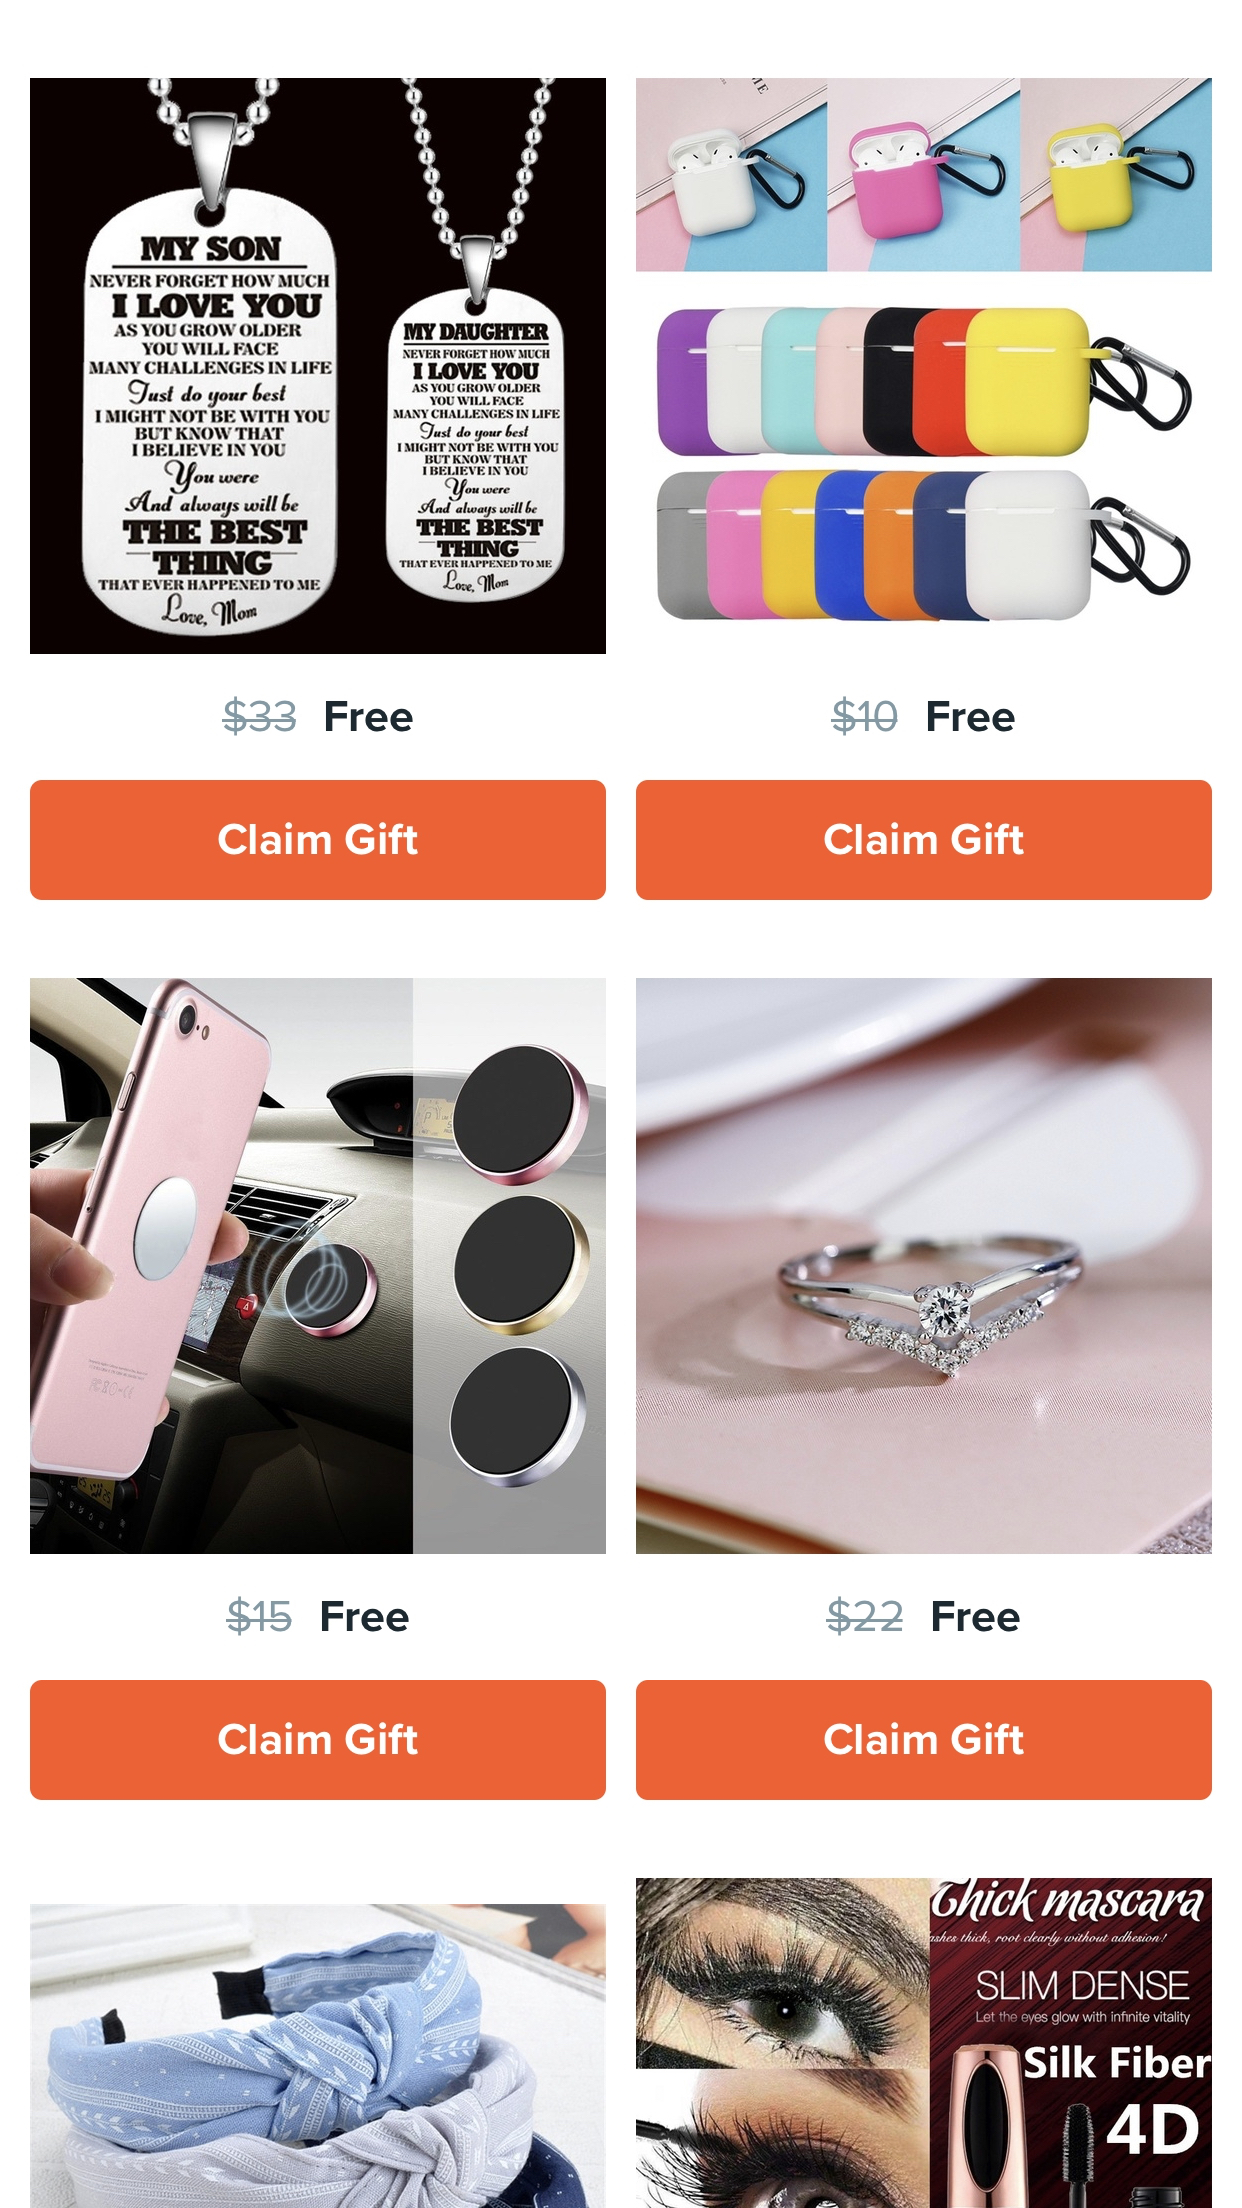Image: (635, 978, 1213, 1554), (30, 77, 607, 655), (30, 978, 607, 1554), (635, 77, 1213, 622), (635, 1877, 1213, 2208), (30, 1903, 607, 2208)
Text: (826, 1595, 904, 1636), (221, 696, 299, 737), (321, 1601, 409, 1633), (933, 1601, 1021, 1633), (928, 701, 1016, 732), (326, 701, 414, 732), (831, 696, 899, 737), (227, 1595, 294, 1636)
TextButton: (635, 779, 1213, 901), (635, 1680, 1213, 1802), (30, 779, 607, 901), (30, 1680, 607, 1802)
